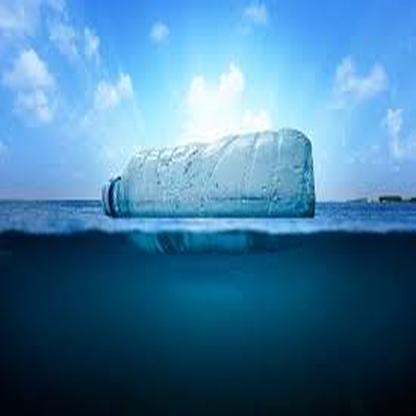plastic bottle: (101, 128, 317, 219)
